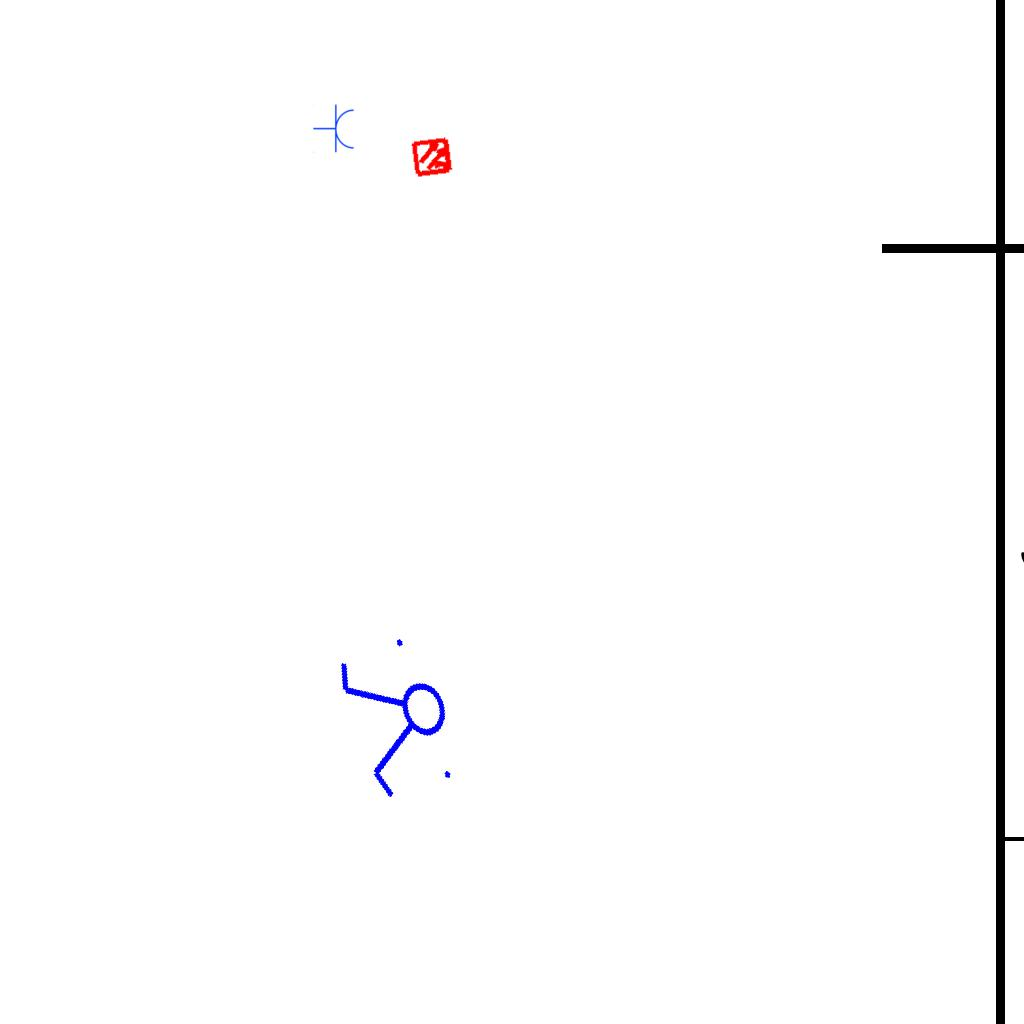OT_Multisensormelder_(Kombination_RMO_WMD): (401, 125, 465, 189)
Schukosteckdose_einfach: (313, 104, 356, 154)
Serienschalter: (326, 623, 474, 815)
